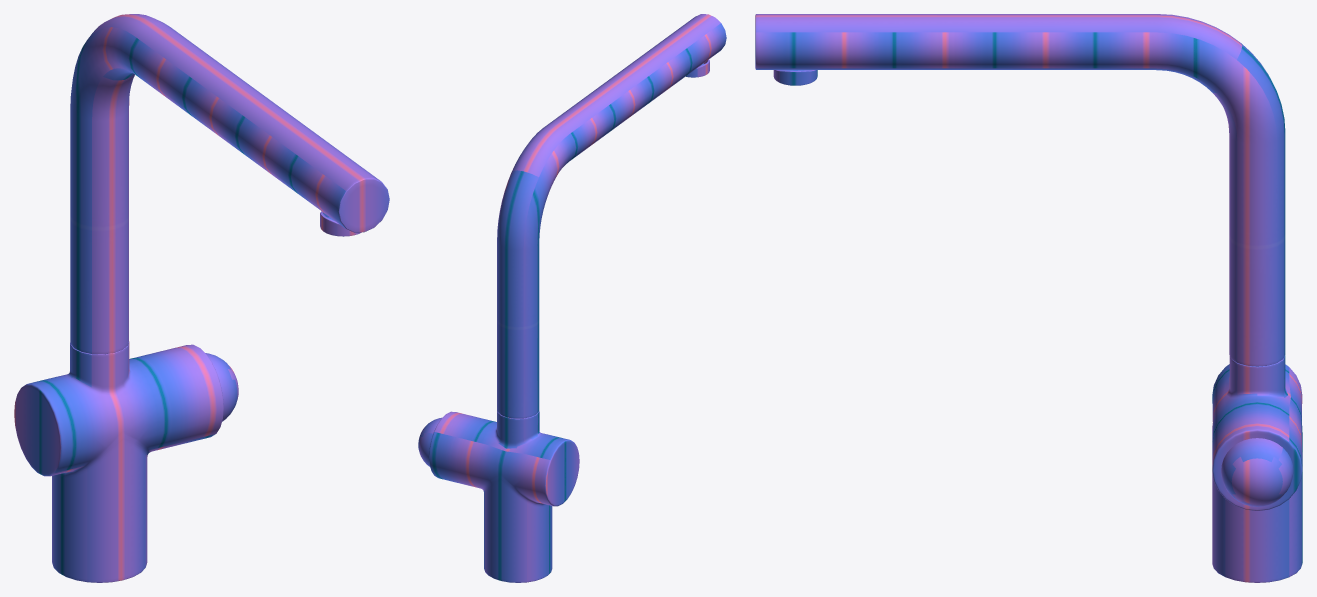
The model's file is SM_Counter_Watertab.fbx.
3 views of the same model, side by side, from view 1: azimuth 30°, elevation 25°; view 2: azimuth 150°, elevation 25°; view 3: azimuth 270°, elevation 25° (orthographic). The views are drawn at different scales.
Visible parts, largest first — view 1: SM_Counter_Watertab; view 2: SM_Counter_Watertab; view 3: SM_Counter_Watertab.
Part boxes in pixels (x1,y1,x2,y2): SM_Counter_Watertab: (14,14,389,582); SM_Counter_Watertab: (418,14,726,582); SM_Counter_Watertab: (755,14,1302,582).
Bounding box in the file's own units: 10.7 × 30.1 × 27.25.
Materials: 1 (1 with a texture image).
